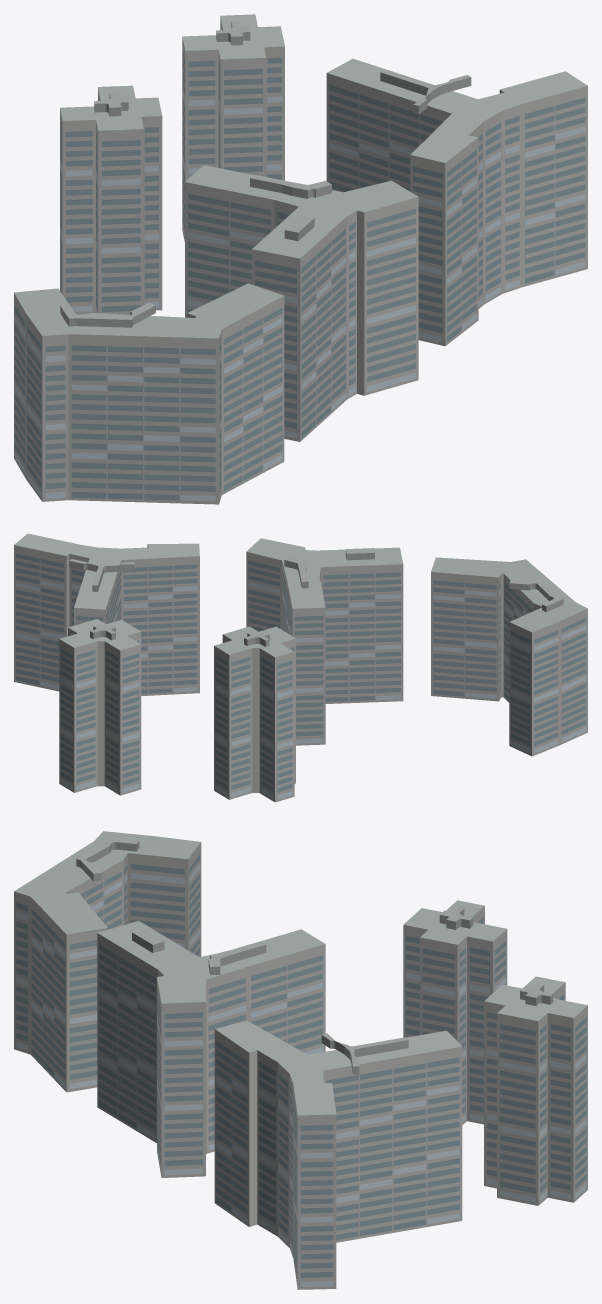
File: apt-a13821006.glb
3 renders of one model, top to bottom at view 1: azimuth 30°, elevation 25°; view 2: azimuth 150°, elevation 25°; view 3: azimuth 270°, elevation 25°, orthographic. The views are drawn at different scales.
Parts seen in each view (by area): view 1: apt-a13821006; view 2: apt-a13821006; view 3: apt-a13821006.
Part boxes in pixels (x1,y1,x2,y2): apt-a13821006: (14, 14, 587, 504); apt-a13821006: (14, 533, 587, 802); apt-a13821006: (14, 831, 587, 1289).
Size of the model in its own units: 187 by 56 by 151.
